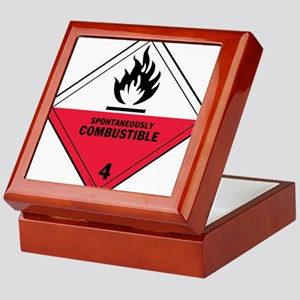SpontaneouslyCombustible: (49, 40, 203, 190)
